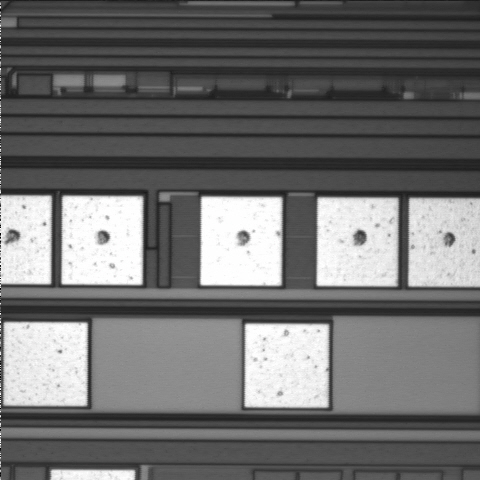pad: (200, 197, 282, 286), (62, 196, 143, 285), (317, 198, 398, 286), (4, 322, 88, 406), (245, 324, 329, 408)
